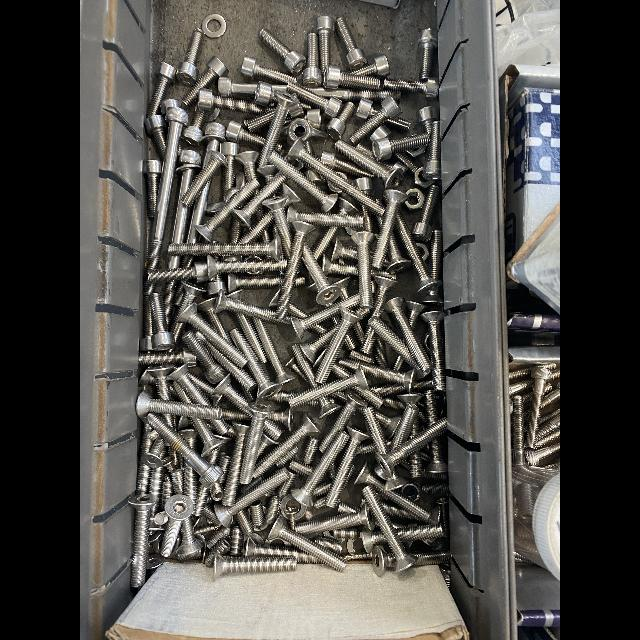Stainless Steel: (143, 107, 188, 295), (287, 137, 385, 217), (147, 413, 224, 488), (362, 484, 417, 573), (177, 302, 249, 369), (353, 461, 430, 522), (290, 430, 350, 506), (253, 411, 321, 478), (267, 150, 338, 213), (195, 178, 262, 243), (215, 469, 290, 527), (266, 516, 345, 571), (375, 418, 447, 477), (395, 207, 442, 293), (275, 220, 315, 321), (368, 316, 431, 379), (230, 328, 282, 400), (384, 296, 431, 373), (289, 363, 369, 408), (196, 331, 256, 391), (335, 140, 403, 190), (230, 172, 288, 230), (290, 293, 360, 340), (327, 427, 368, 507), (257, 90, 298, 167), (318, 307, 360, 382), (371, 190, 409, 269), (251, 318, 296, 384), (171, 149, 202, 244), (168, 237, 282, 262), (240, 401, 274, 484), (213, 290, 291, 326), (320, 393, 367, 452), (170, 280, 208, 352), (181, 150, 229, 206), (296, 501, 375, 535), (339, 358, 415, 393), (137, 390, 223, 420), (130, 496, 157, 588), (183, 331, 229, 384), (303, 242, 341, 304), (259, 28, 306, 76), (222, 423, 249, 506), (207, 253, 287, 281), (351, 97, 400, 142), (286, 81, 342, 120), (165, 361, 213, 406), (184, 56, 228, 105), (262, 193, 294, 259), (420, 312, 446, 393), (213, 555, 296, 580), (209, 373, 253, 418), (287, 204, 363, 230), (197, 88, 272, 114), (352, 231, 376, 309), (305, 87, 402, 105), (234, 312, 268, 363), (197, 297, 233, 345), (186, 180, 212, 244), (356, 143, 408, 175), (245, 538, 314, 562), (411, 186, 440, 243), (335, 18, 368, 68), (300, 322, 342, 361), (372, 133, 428, 161), (147, 62, 176, 116), (176, 29, 204, 84), (322, 65, 380, 91), (148, 260, 210, 283), (150, 293, 175, 350), (241, 58, 295, 84), (136, 416, 154, 494), (291, 343, 321, 388), (189, 370, 224, 408), (390, 405, 419, 450), (321, 152, 373, 177), (381, 502, 440, 524), (191, 418, 224, 457), (362, 407, 389, 453), (219, 142, 240, 200), (238, 210, 273, 244), (371, 276, 398, 319), (201, 122, 227, 166), (144, 159, 163, 219), (140, 347, 197, 367), (281, 118, 328, 142), (423, 121, 442, 180), (326, 102, 354, 141), (228, 274, 284, 293), (176, 517, 204, 555), (383, 79, 438, 98), (387, 232, 411, 275), (418, 28, 438, 79), (303, 32, 321, 87), (147, 364, 174, 400), (317, 16, 334, 73), (144, 115, 166, 159), (226, 121, 264, 146), (368, 407, 401, 434), (218, 76, 257, 98), (313, 227, 339, 260), (351, 55, 389, 77), (243, 108, 276, 133), (396, 524, 444, 541), (182, 110, 206, 144), (371, 546, 397, 577), (161, 519, 182, 557), (139, 297, 153, 352), (322, 255, 357, 276), (184, 458, 197, 513), (236, 151, 259, 182), (204, 539, 230, 566), (427, 438, 447, 473), (428, 230, 442, 280), (417, 106, 438, 139), (363, 526, 388, 553), (267, 406, 294, 431), (410, 550, 452, 566), (150, 467, 163, 518), (331, 238, 357, 262), (164, 280, 177, 328), (384, 468, 410, 491), (202, 14, 226, 38), (394, 150, 418, 174), (357, 387, 383, 409), (424, 390, 439, 428), (405, 300, 425, 328), (257, 433, 279, 458), (285, 357, 307, 382), (278, 472, 297, 500), (207, 527, 230, 549), (149, 521, 165, 552), (315, 537, 342, 555), (276, 446, 299, 467), (303, 165, 326, 186), (194, 485, 209, 517), (355, 100, 379, 120), (331, 276, 351, 300), (282, 184, 302, 208), (236, 510, 254, 536), (436, 498, 448, 537), (319, 398, 341, 419), (404, 188, 425, 210), (255, 81, 275, 104), (371, 384, 405, 397), (265, 495, 280, 524), (303, 438, 319, 465), (415, 167, 434, 189), (422, 287, 444, 306), (375, 335, 388, 367), (331, 361, 354, 379), (257, 164, 277, 184), (178, 429, 197, 450), (409, 449, 423, 477), (249, 503, 265, 527), (161, 477, 173, 509), (207, 276, 226, 296), (337, 197, 358, 215), (280, 494, 295, 519), (207, 418, 229, 435), (265, 392, 299, 403), (289, 460, 312, 476), (264, 418, 280, 441), (228, 218, 242, 244), (385, 117, 411, 131), (230, 526, 242, 556), (401, 483, 421, 501), (171, 467, 184, 494), (349, 350, 374, 364), (203, 505, 220, 525), (147, 552, 164, 572), (370, 125, 390, 142), (422, 483, 448, 496), (284, 506, 298, 530), (219, 455, 231, 482), (354, 177, 373, 194), (222, 409, 251, 420), (288, 303, 307, 319), (138, 368, 154, 387), (161, 99, 181, 114), (422, 468, 446, 480), (239, 383, 255, 401), (372, 268, 396, 280), (333, 528, 359, 539), (355, 443, 377, 456), (397, 393, 423, 404), (312, 481, 331, 496), (307, 109, 321, 129), (284, 114, 307, 126), (347, 539, 364, 555), (338, 502, 360, 514), (383, 398, 405, 410), (176, 550, 200, 561), (353, 321, 364, 344), (173, 281, 183, 306), (210, 483, 223, 502), (313, 348, 326, 367), (224, 187, 240, 202), (178, 416, 194, 431), (372, 463, 386, 480), (162, 455, 175, 473), (416, 243, 429, 261), (407, 145, 426, 157), (268, 289, 280, 308), (206, 201, 225, 213), (206, 107, 221, 122), (408, 418, 418, 439), (288, 103, 303, 117), (169, 381, 180, 399), (154, 511, 168, 525), (392, 356, 405, 371), (206, 19, 221, 32), (259, 227, 271, 243), (344, 554, 371, 561), (345, 333, 356, 350), (295, 503, 306, 520), (305, 139, 315, 157), (212, 433, 232, 442), (207, 452, 220, 465), (250, 533, 264, 545), (168, 255, 180, 269), (197, 525, 215, 534), (220, 255, 243, 262), (330, 391, 346, 401), (271, 84, 287, 94), (313, 497, 326, 509), (225, 423, 236, 437), (180, 256, 194, 267), (329, 462, 338, 478), (236, 172, 245, 188), (295, 159, 305, 172), (313, 325, 326, 334), (295, 276, 305, 287), (219, 450, 229, 461), (272, 221, 278, 239), (274, 142, 283, 154), (244, 256, 261, 262), (422, 452, 432, 462), (400, 458, 409, 469), (301, 102, 311, 110), (382, 257, 389, 268), (361, 498, 368, 508), (385, 439, 391, 450), (214, 256, 219, 261), (371, 254, 375, 260), (212, 242, 218, 244)
